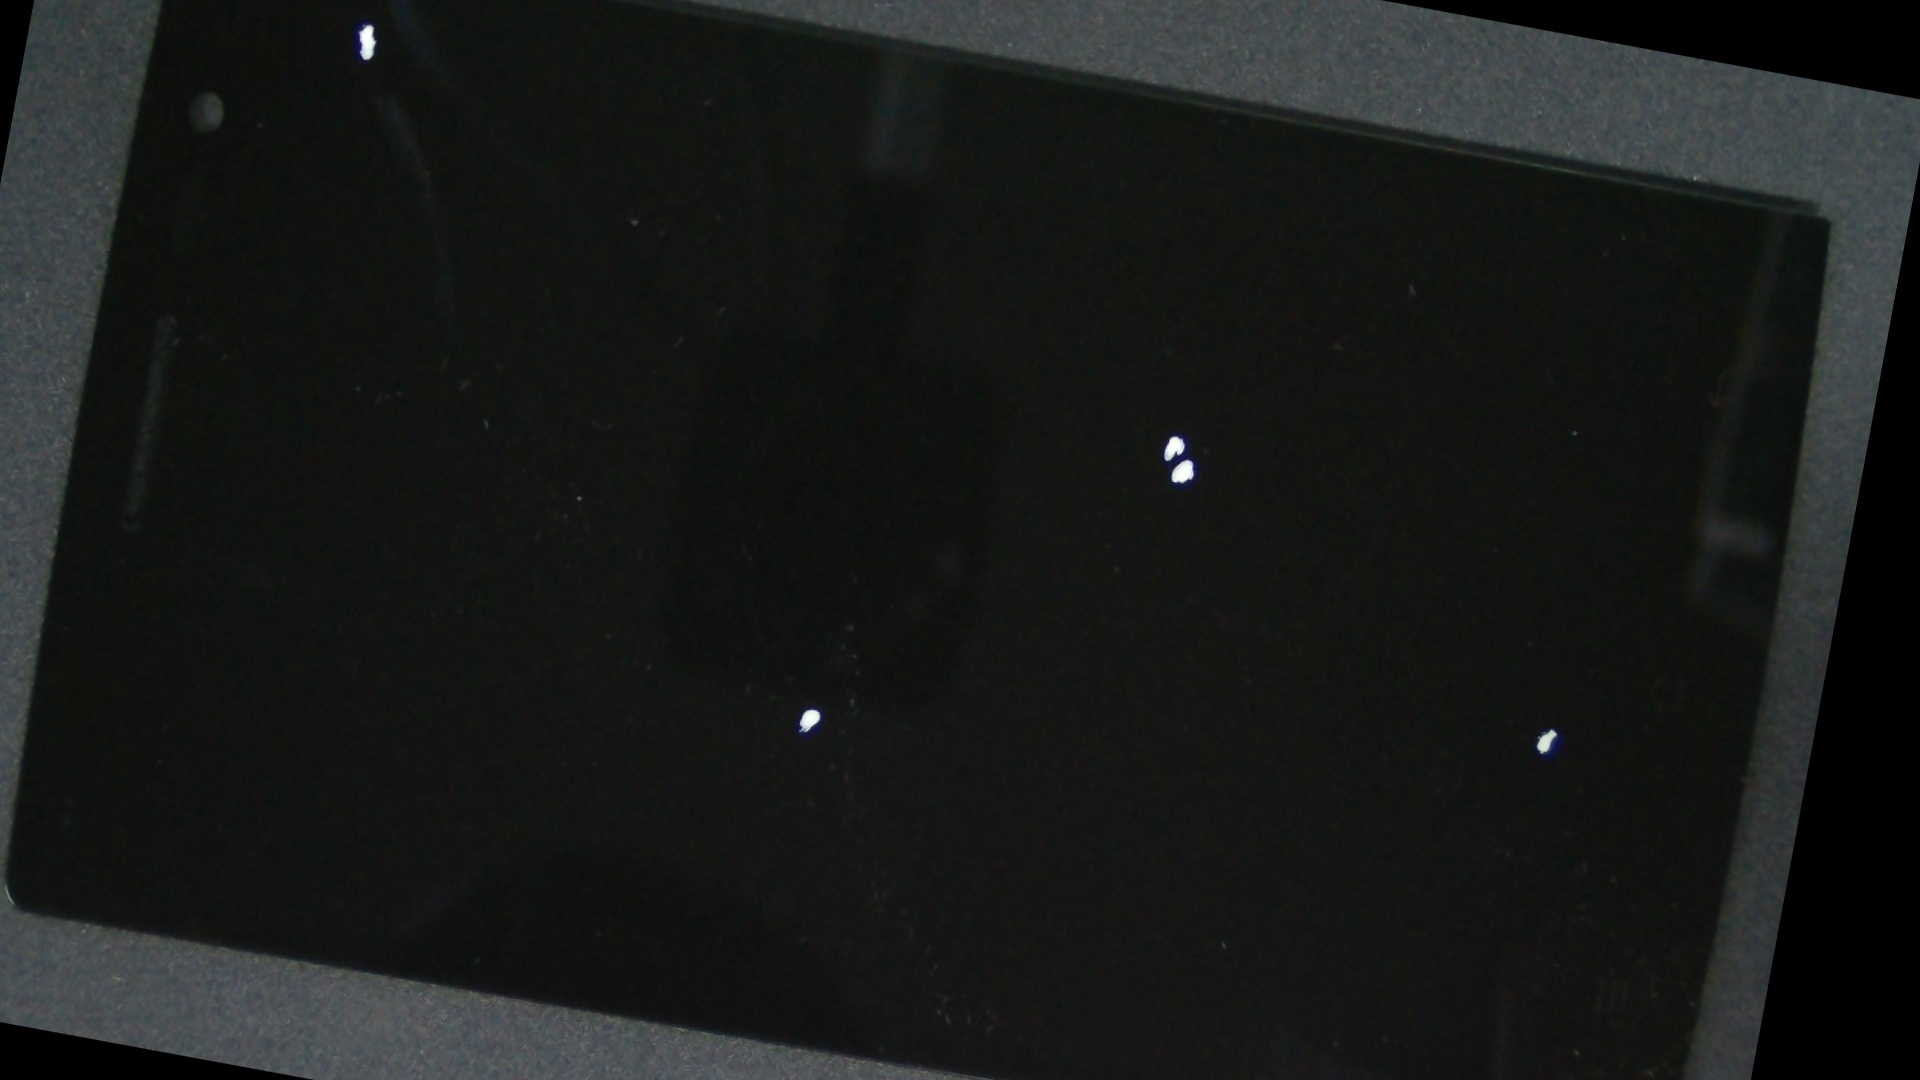oil: (691, 243, 1869, 1080), (546, 108, 1829, 807), (303, 233, 1329, 1080), (543, 96, 1807, 770), (187, 0, 551, 153)
